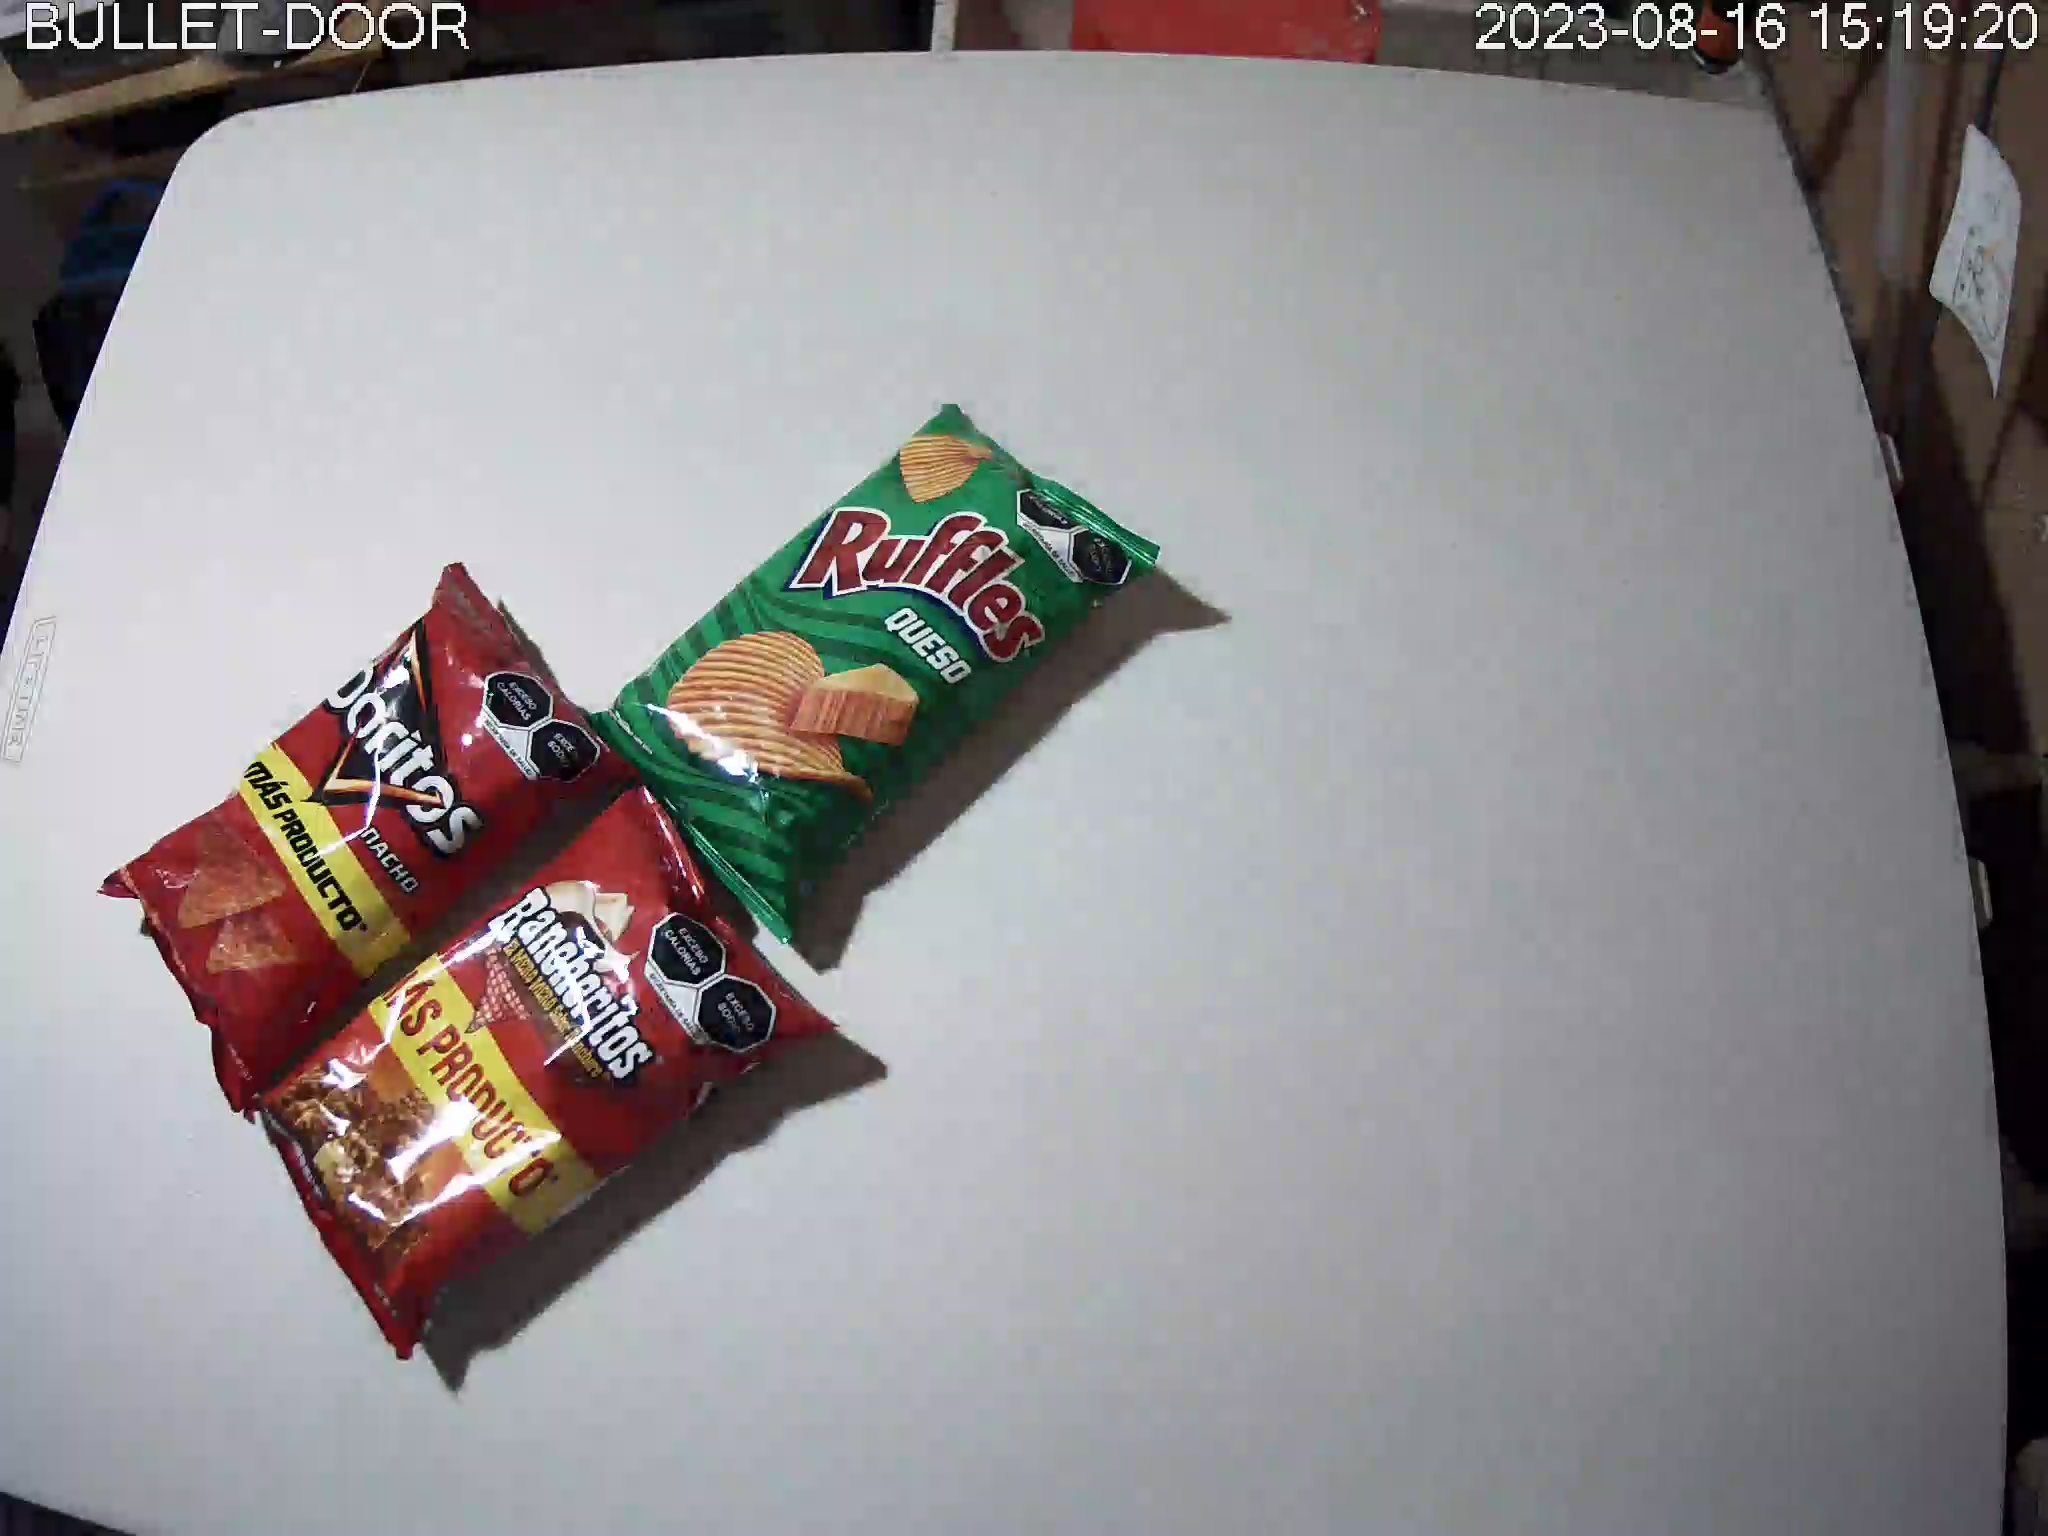DoritosN_61_F: (98, 561, 640, 1113)
Rancheritos_58_F: (248, 778, 843, 1363)
RufflesQ_48_F: (579, 402, 1161, 942)
